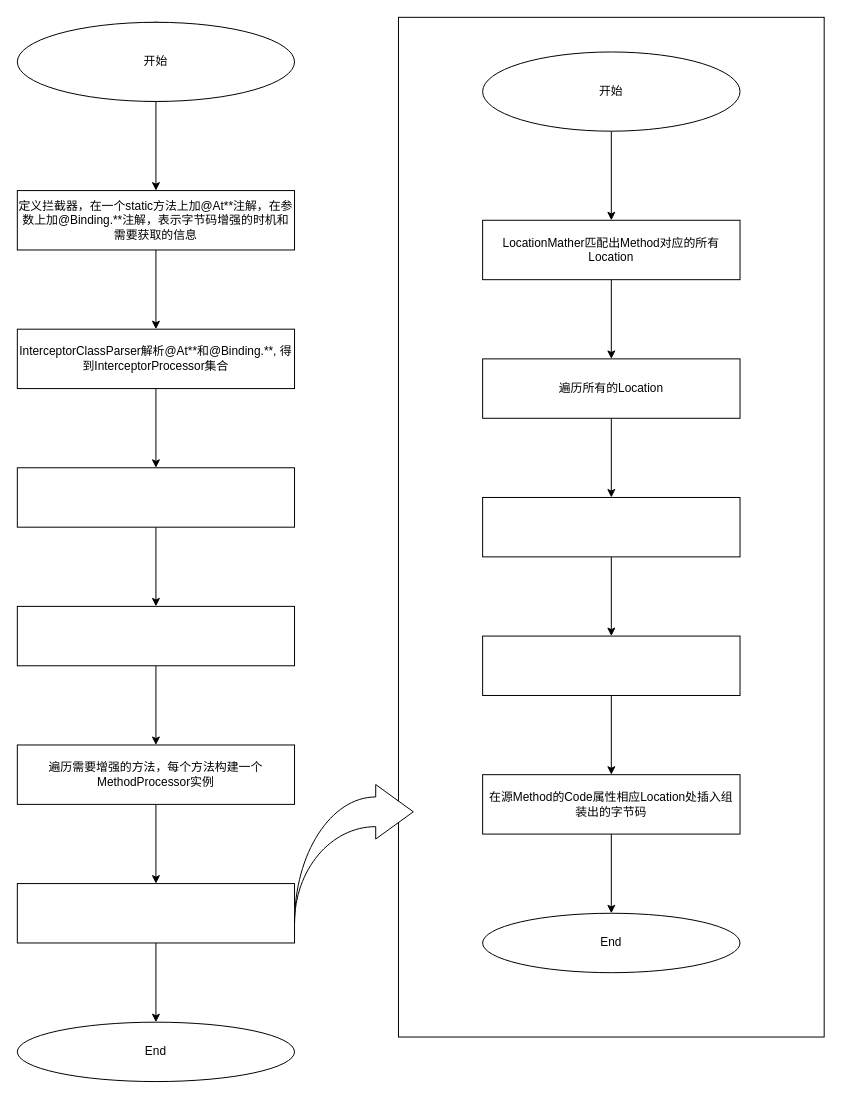
This 842x1099 diagram has some shape labels left out. The shapes that lost their labels are listed below. From the top down, each one's centre as x and y in pixels, then its label:
the point at 155,497: 读取target class字节数组
the point at 611,526: 遍历Method上的所有@Binding.**，完成数据的封装
the point at 155,635: MethodMatcher匹配需要进行字节码增强的方法
the point at 611,665: try-catch块的处理
the point at 155,913: 遍历InterceptorProcessor集合，处理MethodProcessor来完成字节码增强
